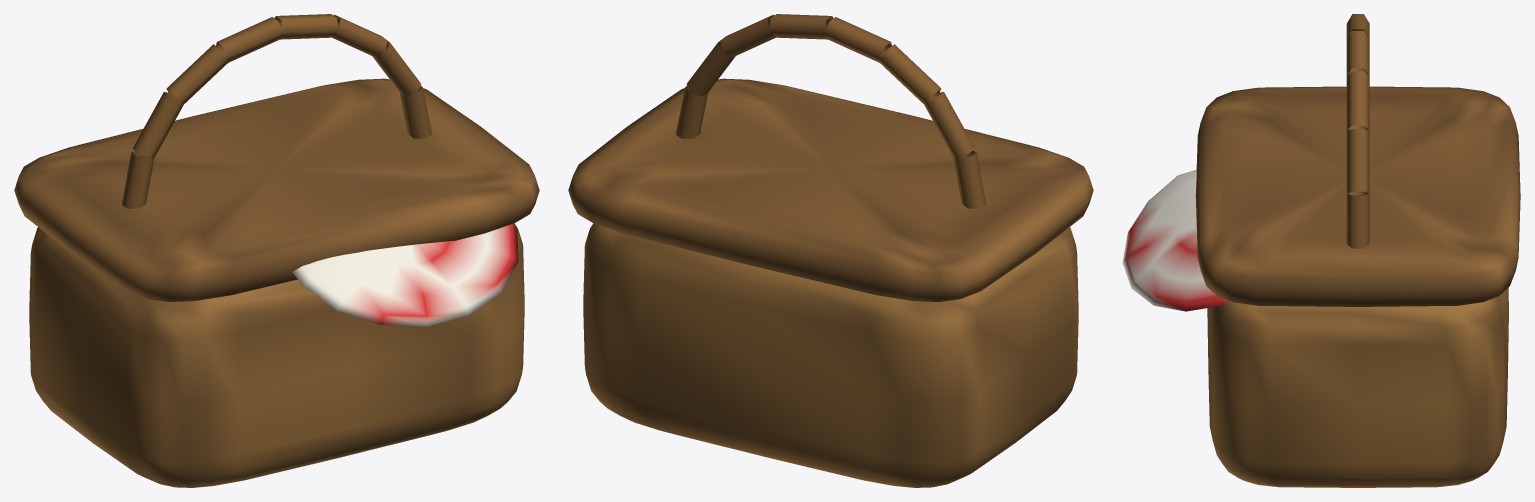
The model's file is Basket.glb.
3 renders of one model, left to right at view 1: azimuth 30°, elevation 25°; view 2: azimuth 150°, elevation 25°; view 3: azimuth 270°, elevation 25°, orthographic. The views are drawn at different scales.
Visible parts, largest first — view 1: BasketBody, BasketLid, Napkin, Handle; view 2: BasketBody, BasketLid, Handle; view 3: BasketLid, BasketBody, Napkin, Handle.
Part boxes in pixels (<box>): BasketBody: <box>29,223,524,487</box>; BasketLid: <box>14,78,539,301</box>; Napkin: <box>292,223,518,326</box>; Handle: <box>121,14,432,208</box>; BasketBody: <box>583,223,1078,487</box>; BasketLid: <box>568,78,1093,301</box>; Handle: <box>675,14,986,208</box>; BasketLid: <box>1195,86,1520,306</box>; BasketBody: <box>1207,288,1508,487</box>; Napkin: <box>1122,169,1230,311</box>; Handle: <box>1346,14,1369,248</box>.
Bounding box in the file's own units: 0.4 × 0.3685 × 0.3433.
